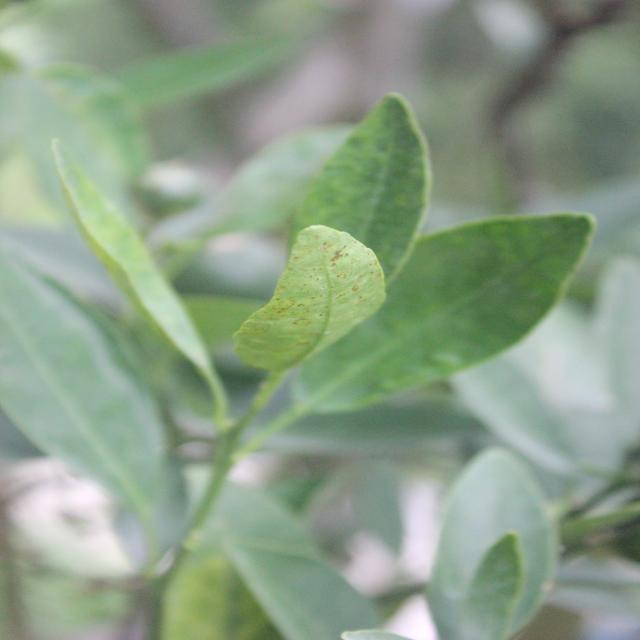canker: (229, 232, 395, 366)
